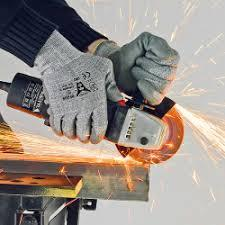gloves: (33, 29, 125, 145), (93, 40, 180, 106)
